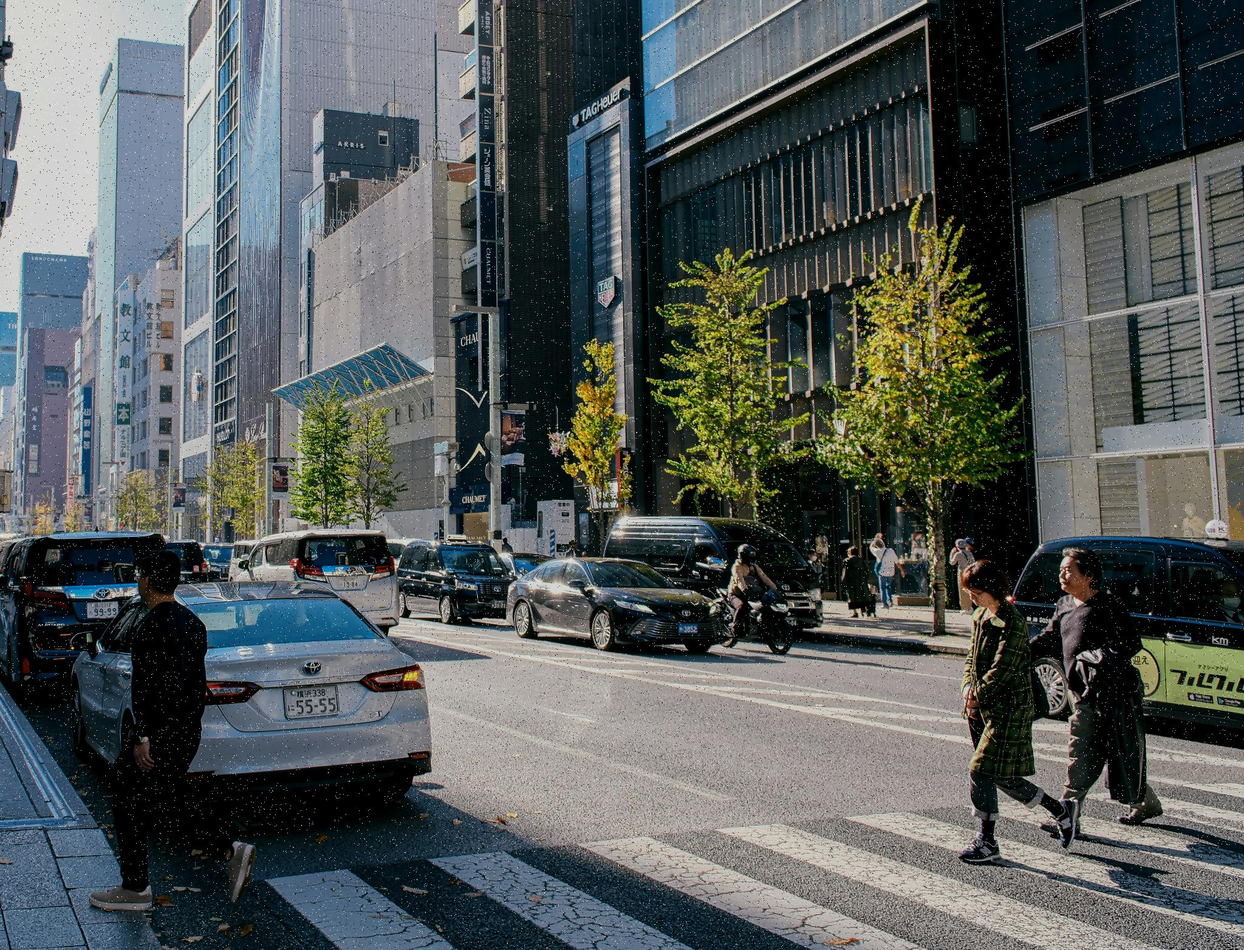car: (54, 568, 436, 800), (1014, 539, 1244, 747), (502, 560, 718, 655), (1, 529, 135, 668), (240, 531, 407, 633), (602, 517, 813, 596), (393, 539, 514, 623), (165, 544, 212, 580)
pedestrian: (94, 555, 208, 882), (964, 553, 1085, 859), (1051, 559, 1166, 841), (722, 543, 787, 650), (842, 542, 881, 620), (950, 539, 981, 615), (874, 537, 903, 609)
